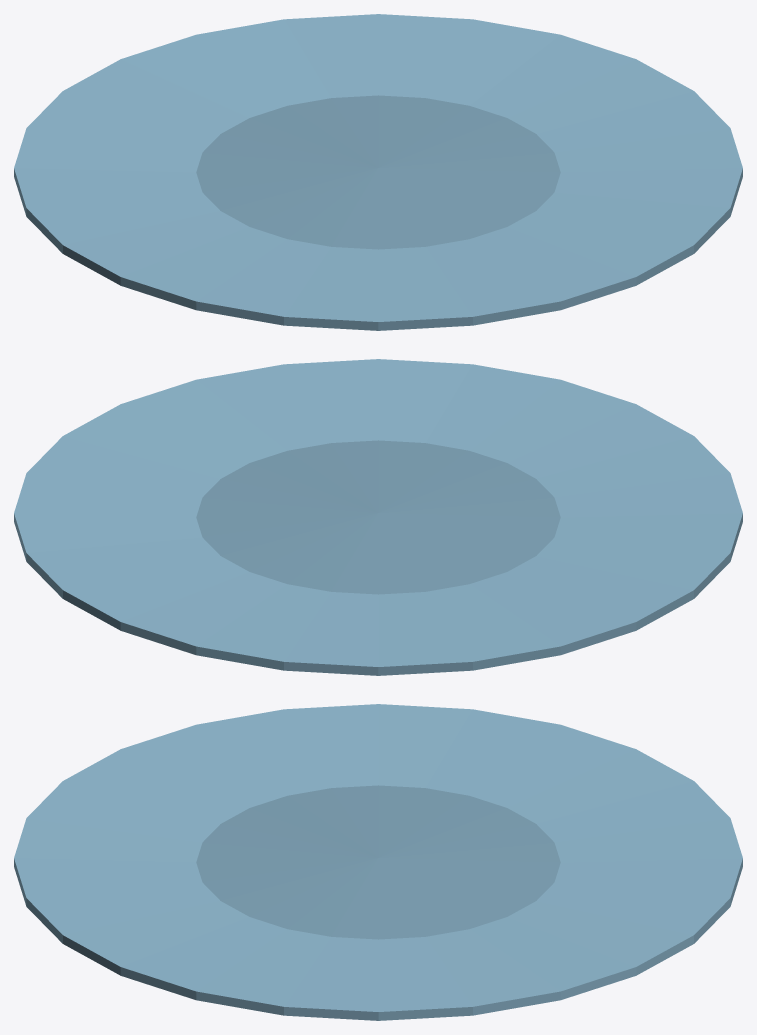
File: disc_water.gltf
3 views of the same model, one above another, from view 1: azimuth 30°, elevation 25°; view 2: azimuth 150°, elevation 25°; view 3: azimuth 270°, elevation 25° (orthographic).
Parts seen in each view (by area): view 1: mesh; view 2: mesh; view 3: mesh.
Part boxes in pixels (x1,y1,x2,y2): mesh: (14, 14, 742, 330); mesh: (14, 359, 742, 675); mesh: (14, 704, 742, 1020).
Bounding box in the file's own units: 6 × 0.08 × 6.
